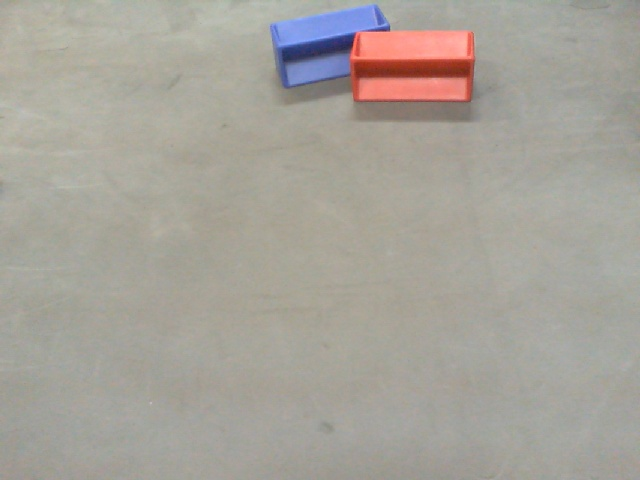BlueSample: (270, 5, 391, 87)
RedSample: (350, 26, 476, 107)
